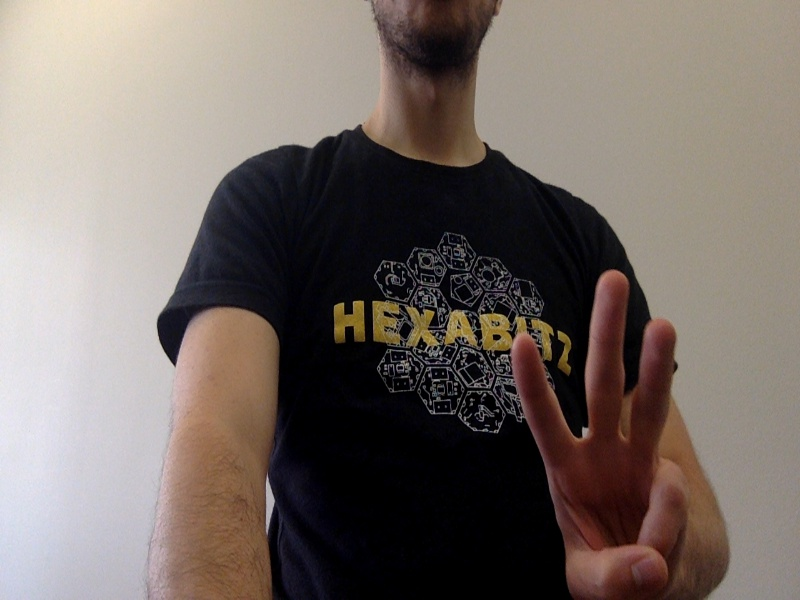3-hand: (510, 268, 690, 598)
